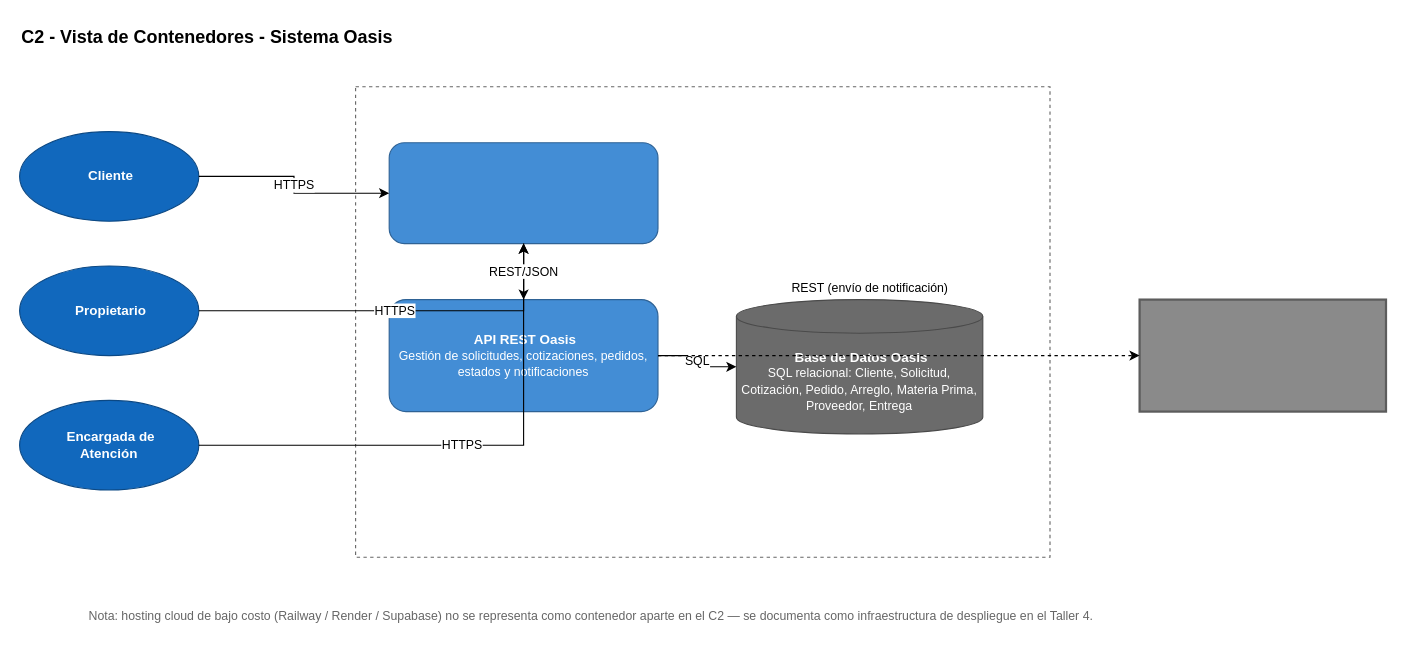
The diagram is 1407 pixels wide and 665 high, and some of its shapes have lost their labels. Here are the shapes that lost their labels. From the top down, the box of each, then its label:
(388, 142, 658, 244): App Web Oasis Aplicación web ligera (acceso vía navegador móvil)
(354, 86, 1050, 557): Sistema Oasis
(1138, 298, 1387, 412): WhatsApp Business API Sistema externo
